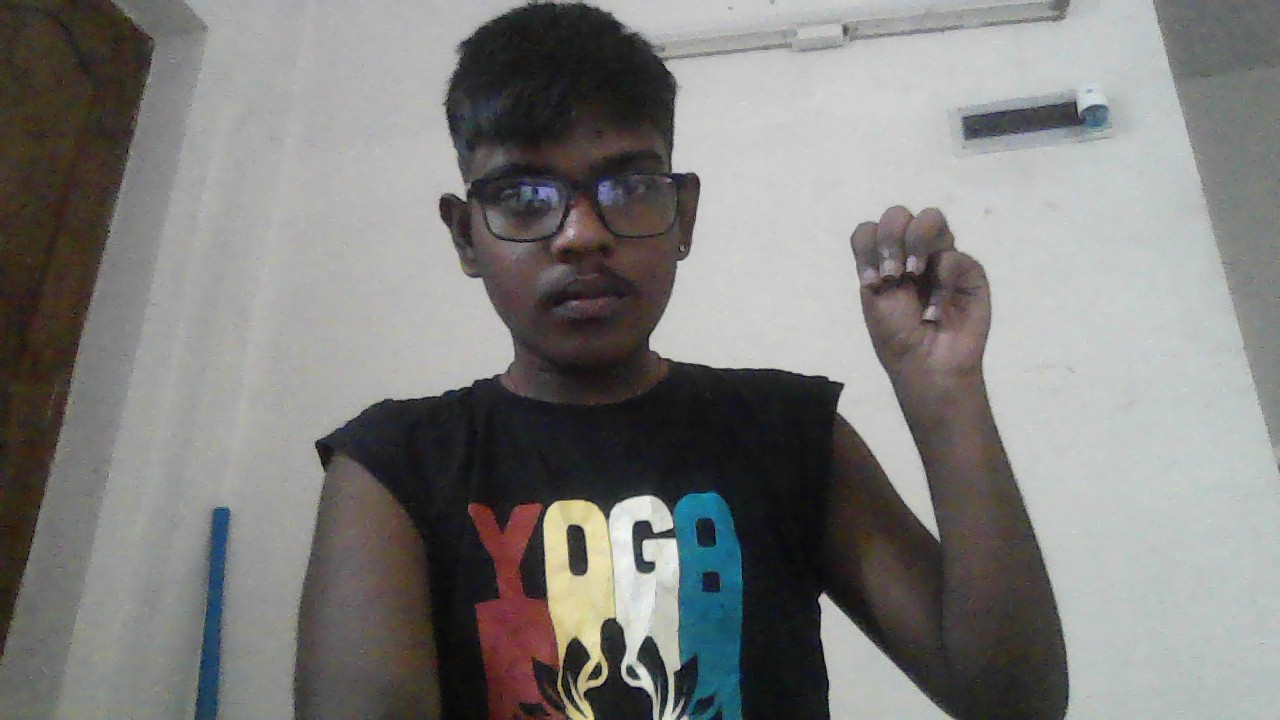M: (851, 206, 992, 385)
